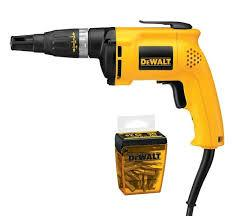screwdriver: (7, 17, 227, 123)
